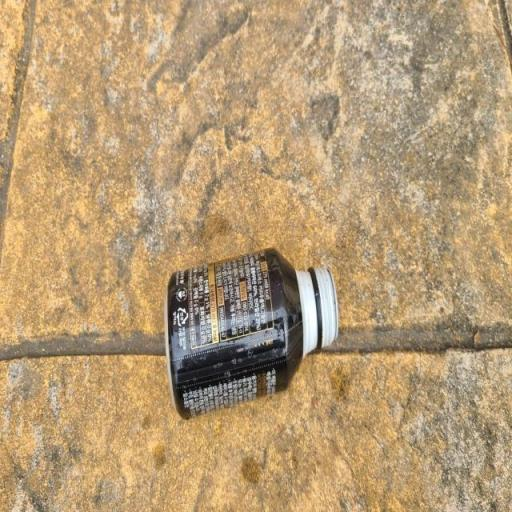metal: (151, 209, 359, 449)
